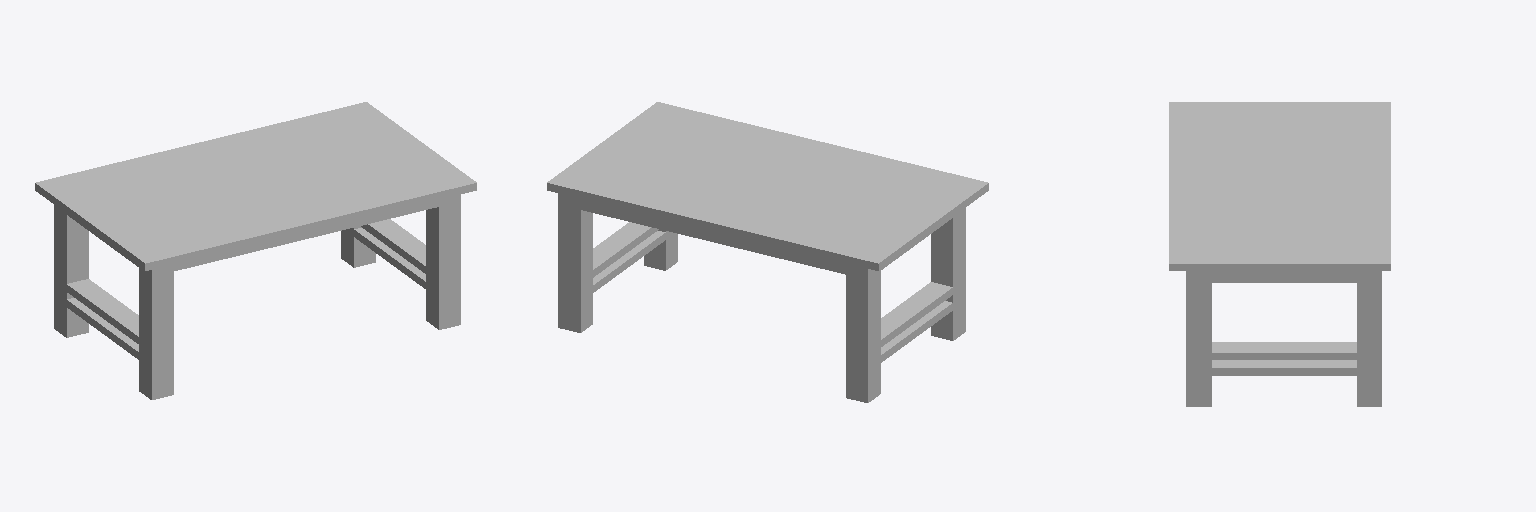
Rendered from SmallTable.obj.
3 renders of one model, left to right at view 1: azimuth 30°, elevation 25°; view 2: azimuth 150°, elevation 25°; view 3: azimuth 270°, elevation 25°, orthographic.
Visible parts, largest first — view 1: object 1; view 2: object 1; view 3: object 1.
Part boxes in pixels (x1,y1,x2,y2): object 1: (35,102,476,399); object 1: (547,102,988,402); object 1: (1169,102,1390,406).
Size of the model in its own units: 4.5 by 1.9 by 2.6.